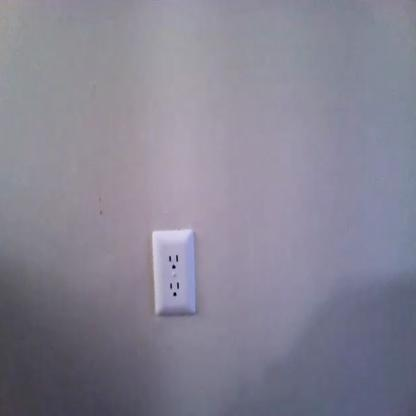OUTLET: (151, 229, 197, 315)
